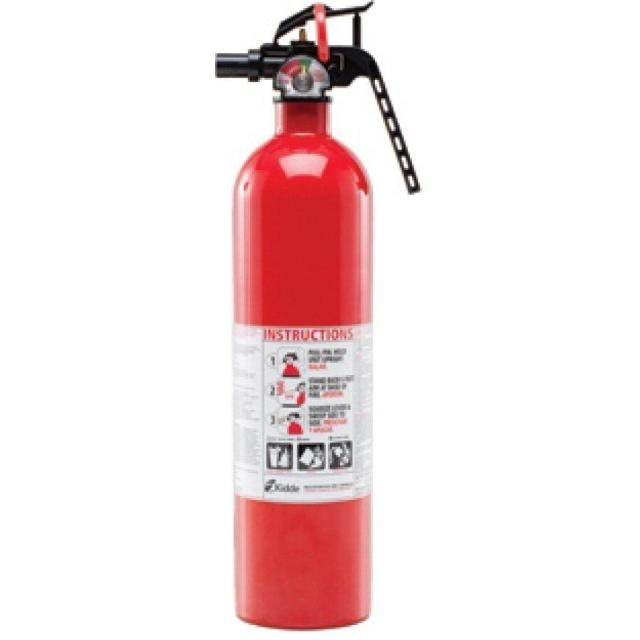fire_extinguisher: (208, 0, 422, 633)
